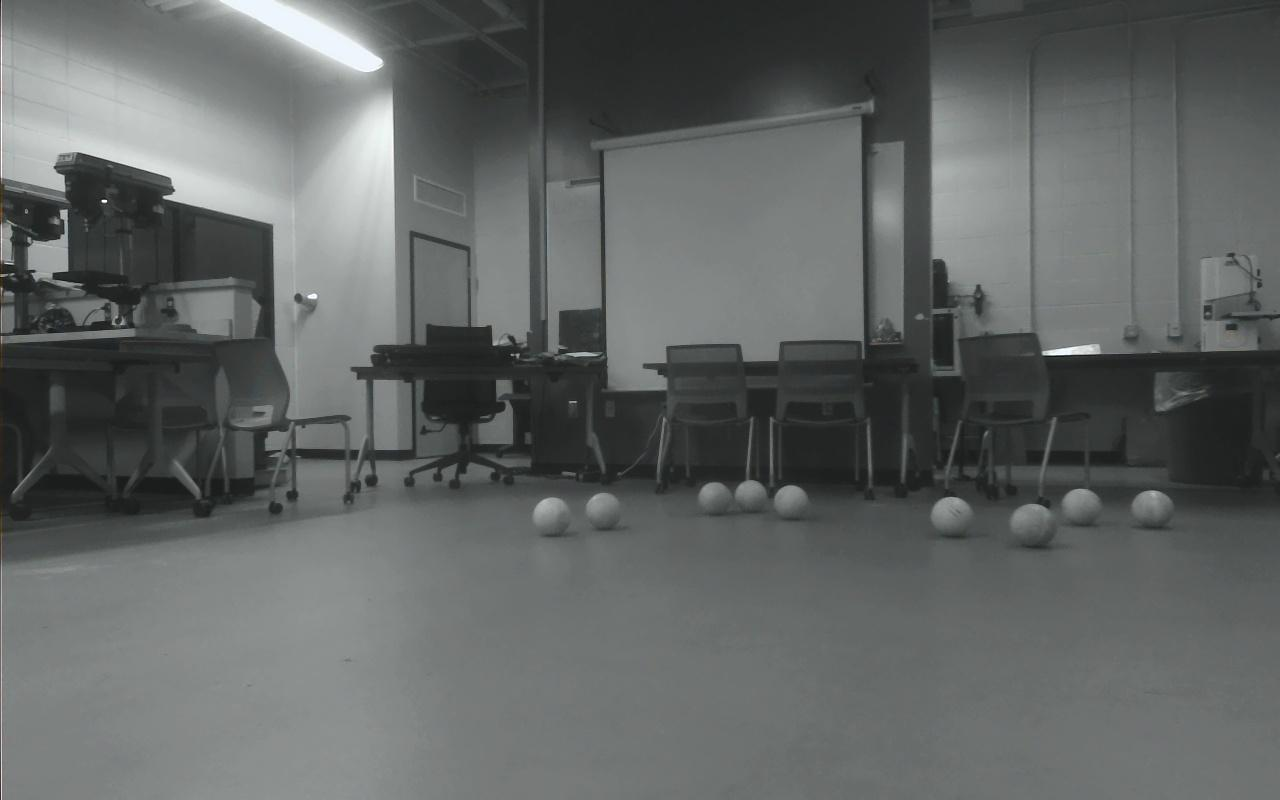Fuel: (1010, 503, 1056, 547), (932, 497, 974, 537), (1132, 490, 1174, 528), (1061, 488, 1101, 526), (532, 497, 571, 534), (584, 493, 622, 530), (773, 485, 809, 519), (698, 482, 733, 515), (735, 480, 768, 513)
